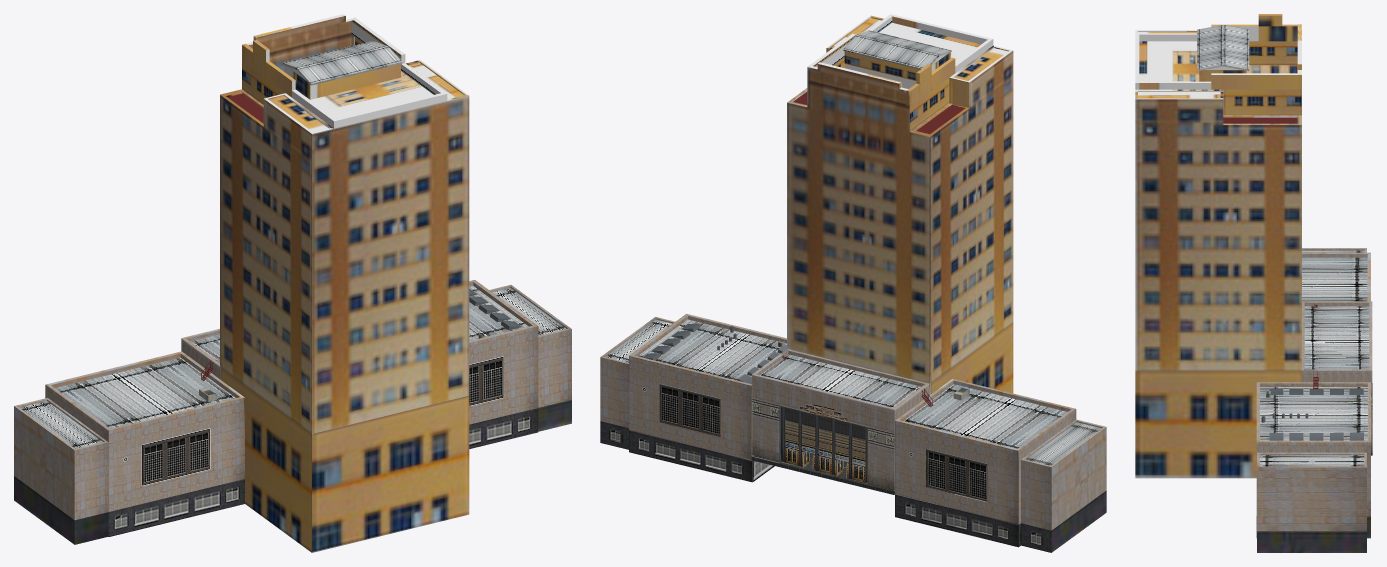
File: monoblockbloqueprin.fbx
3 renders of one model, left to right at view 1: azimuth 30°, elevation 25°; view 2: azimuth 150°, elevation 25°; view 3: azimuth 270°, elevation 25°, orthographic. The views are drawn at different scales.
Visible parts, largest first — view 1: Cube.024, Cube.004, Cube.002, Cube.003, Cube.005, Cube.026, Cube.006, Cube.025; view 2: Cube.024, Cube.004, Cube.003, Cube.006, Cube.002, Cube.005, Cube.025, Cube.001, Cube.026; view 3: Cube.024, Cube.005, Cube.003, Cube.006, Cube.004, Cube.025, Cube.026, Cube.002.
Boxes of the visible parts, x1,y1,x2,y2 form: Cube.024: [220, 14, 469, 552]; Cube.004: [45, 351, 244, 536]; Cube.002: [14, 398, 108, 544]; Cube.003: [469, 280, 538, 448]; Cube.005: [489, 285, 571, 431]; Cube.026: [297, 46, 402, 85]; Cube.006: [181, 328, 219, 378]; Cube.025: [282, 40, 387, 69]; Cube.024: [787, 14, 1013, 394]; Cube.004: [895, 378, 1076, 547]; Cube.003: [629, 314, 786, 482]; Cube.006: [751, 349, 929, 491]; Cube.002: [1021, 419, 1106, 552]; Cube.005: [600, 317, 674, 449]; Cube.025: [843, 35, 938, 69]; Cube.001: [751, 453, 894, 494]; Cube.026: [857, 30, 951, 56]; Cube.024: [1135, 14, 1301, 478]; Cube.005: [1257, 452, 1366, 552]; Cube.003: [1256, 382, 1370, 538]; Cube.006: [1301, 301, 1372, 452]; Cube.004: [1302, 252, 1370, 301]; Cube.025: [1223, 25, 1249, 70]; Cube.026: [1197, 25, 1223, 70]; Cube.002: [1302, 248, 1366, 252].
Size of the model in its own units: 4402 by 3785 by 2012.
